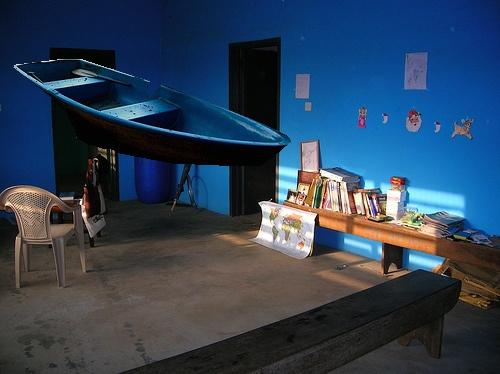tampered: (14, 60, 291, 166)
